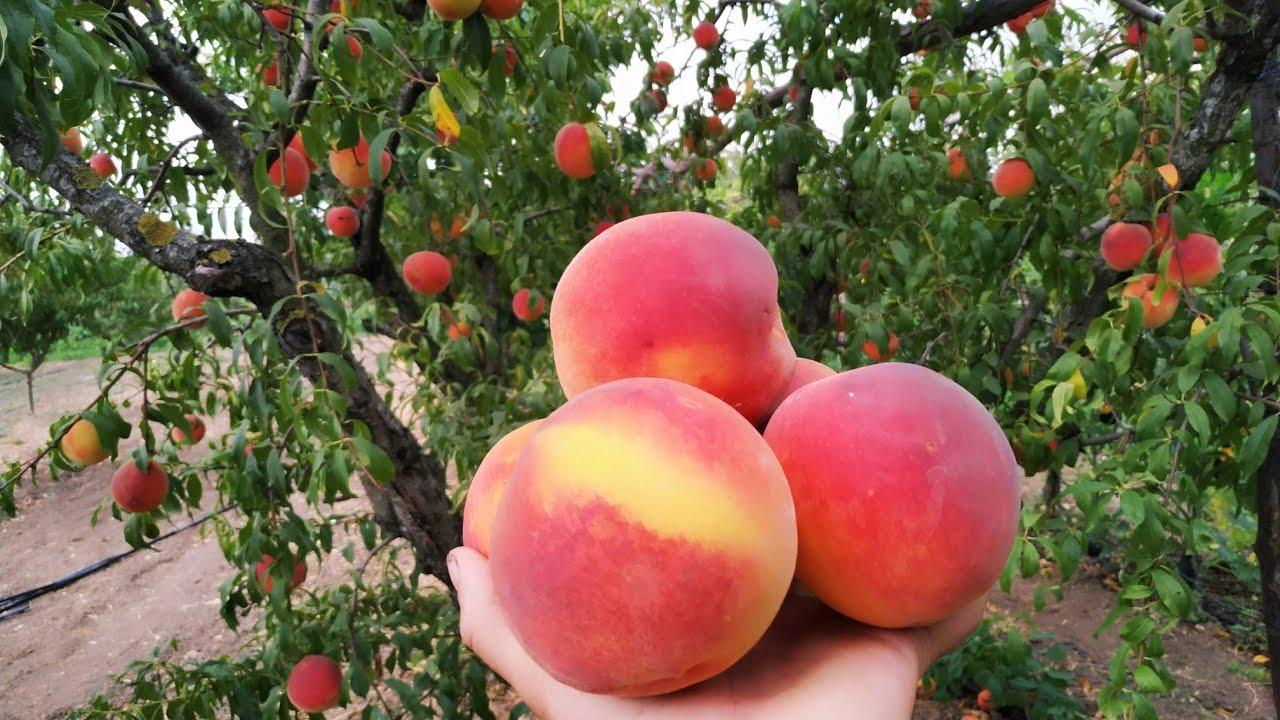Peach Ripe: (465, 378, 796, 696), (777, 357, 1022, 631), (546, 208, 787, 400)
